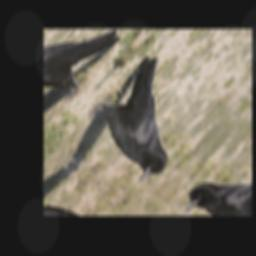Crow: (68, 49, 225, 188)
